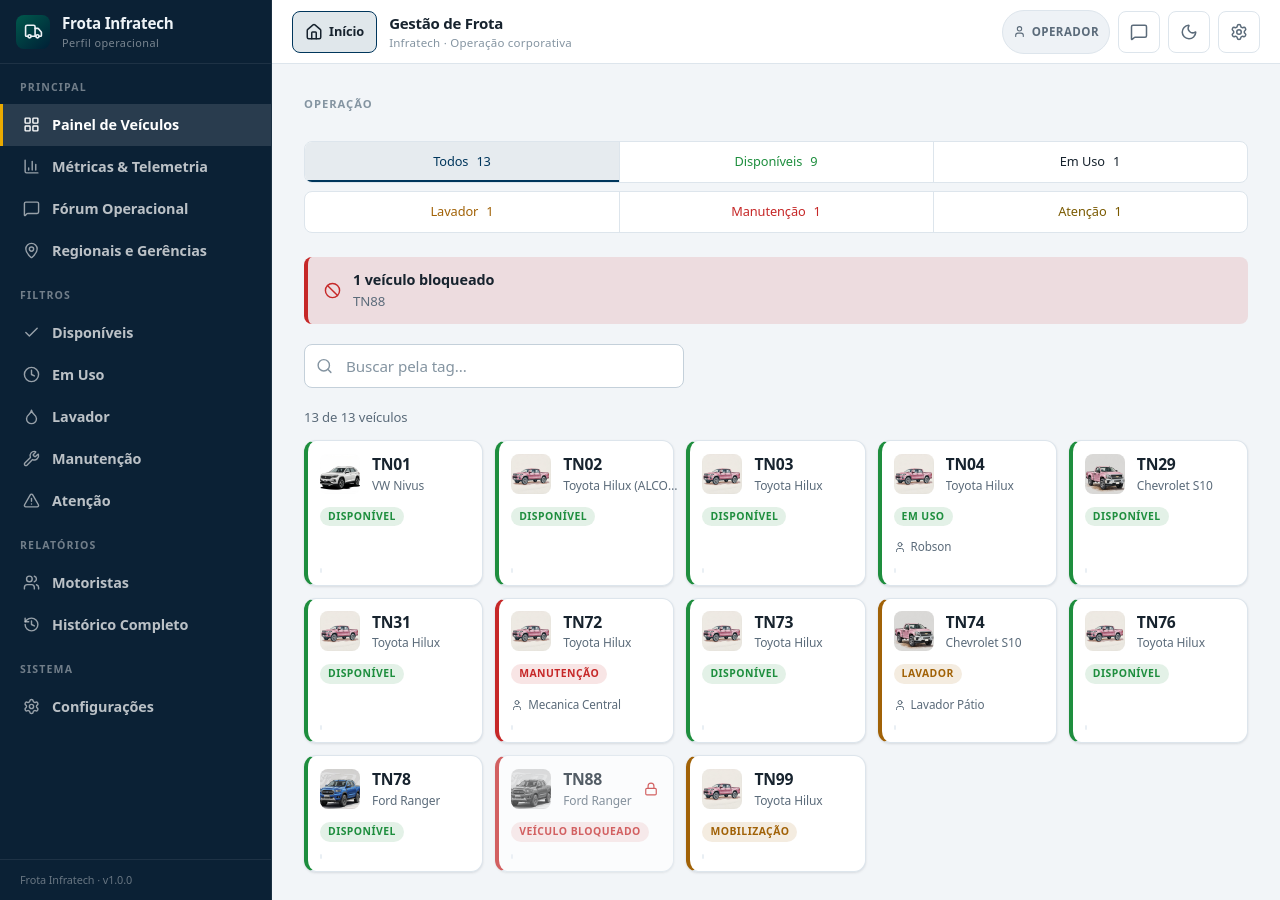
Aplicação — operação › o início volta ao painel de qualquer tela
Expected: the element named "Frota Infratech" is shown, x1=0 y1=0 x2=272 y2=899
Click the button "Métricas & Telemetria".
click(136, 167)  # box x1=0 y1=146 x2=271 y2=188
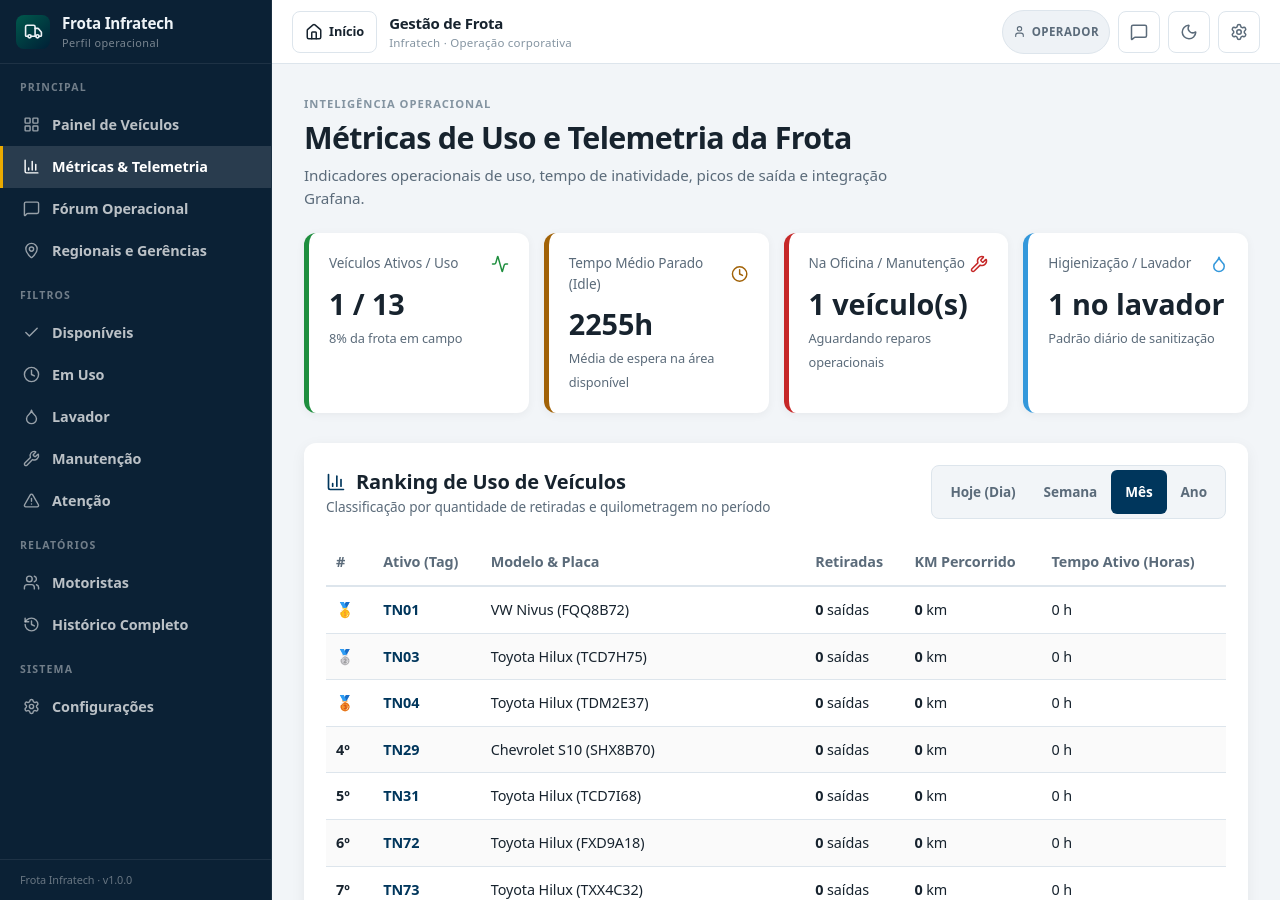
Result: the heading "Métricas de Uso e Telemetria da Frota" is shown at x1=304 y1=121 x2=895 y2=156
Click the button "Início".
click(335, 32)  # box x1=292 y1=10 x2=377 y2=52
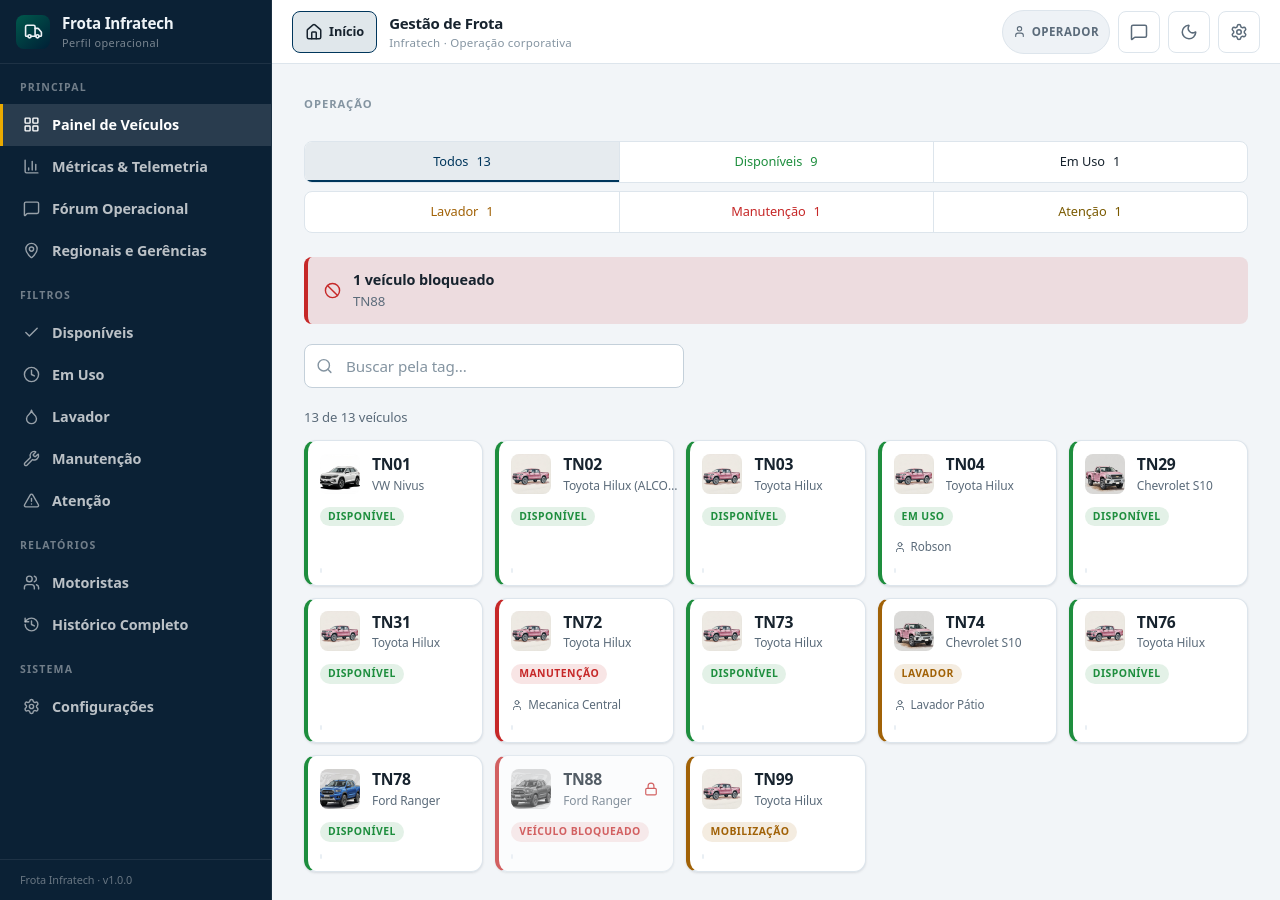
Result: the radio button labelled "Todos 13" is checked at x1=305 y1=142 x2=619 y2=182
Result: the heading "Métricas de Uso" is gone
